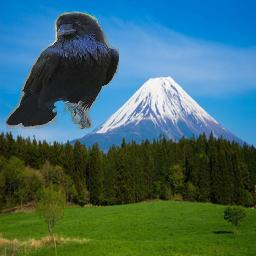Crow: (7, 11, 120, 129)
